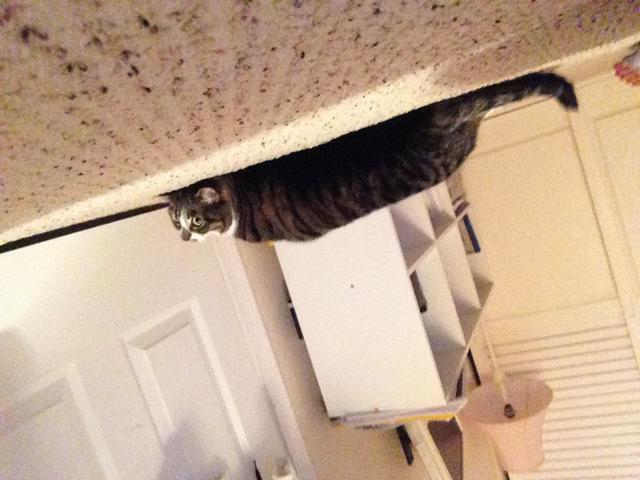playdoh: (152, 72, 578, 247)
